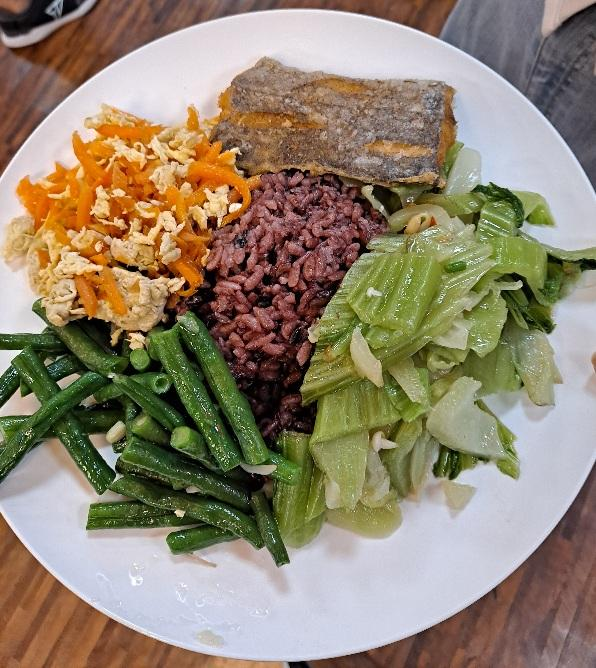big fried chicken leg: (0, 5, 596, 659)
braised fish: (184, 155, 383, 395)
braised fish fillet: (287, 176, 577, 548), (9, 305, 294, 565), (8, 97, 239, 327)
braised pork ribs: (205, 45, 464, 194)
